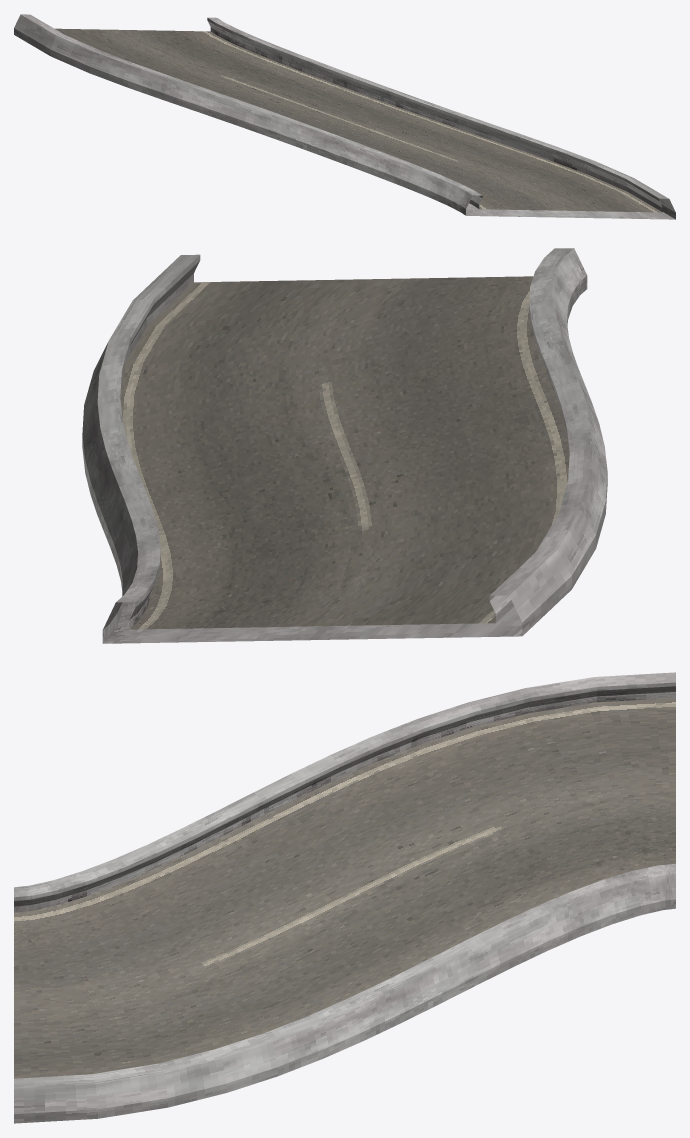
The model's file is chicane-left1x2.glb.
The picture shows the model from 3 angles, top to bottom: view 1: azimuth 30°, elevation 25°; view 2: azimuth 150°, elevation 25°; view 3: azimuth 270°, elevation 25°; orthographic projection. The views are drawn at different scales.
Visible parts, largest first — view 1: road-Chicane-HalfBankedRight-HalfBankedRight-Up1-Left1-Size2; view 2: road-Chicane-HalfBankedRight-HalfBankedRight-Up1-Left1-Size2; view 3: road-Chicane-HalfBankedRight-HalfBankedRight-Up1-Left1-Size2.
Boxes of the visible parts, x1,y1,x2,y2 form: road-Chicane-HalfBankedRight-HalfBankedRight-Up1-Left1-Size2: (14, 14, 675, 219); road-Chicane-HalfBankedRight-HalfBankedRight-Up1-Left1-Size2: (82, 248, 607, 643); road-Chicane-HalfBankedRight-HalfBankedRight-Up1-Left1-Size2: (14, 672, 675, 1123).
Bounding box in the file's own units: 2 × 0.5859 × 2.
Materials: 2 (2 with a texture image).
